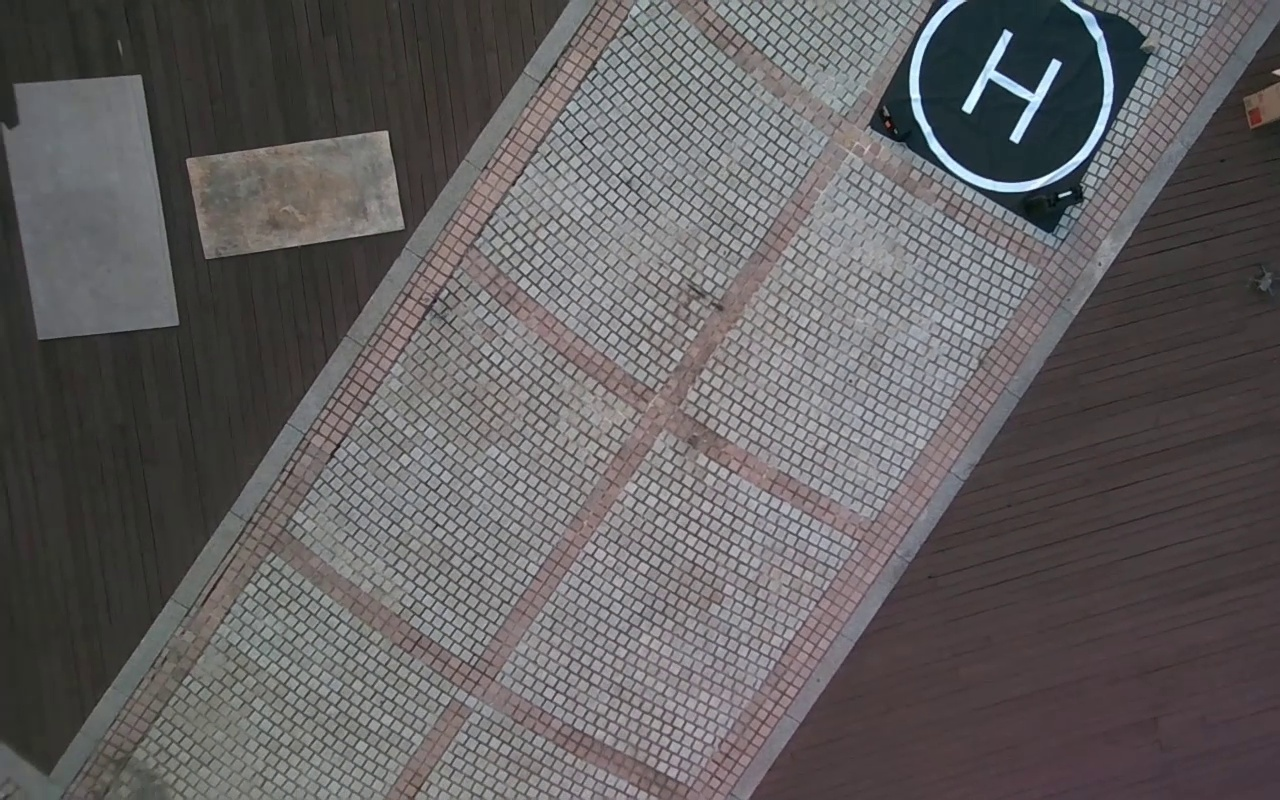H: (961, 27, 1064, 147)
heliport: (907, 1, 1117, 195)
